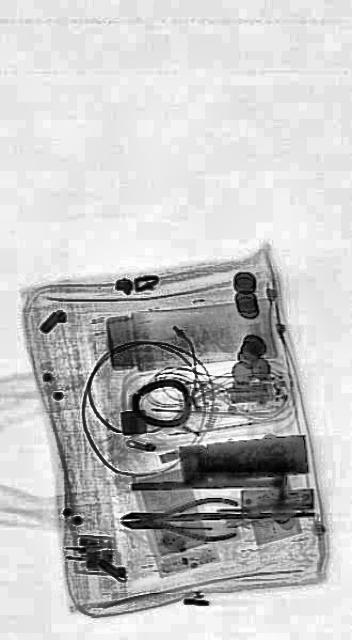Pliers: (120, 495, 239, 543)
